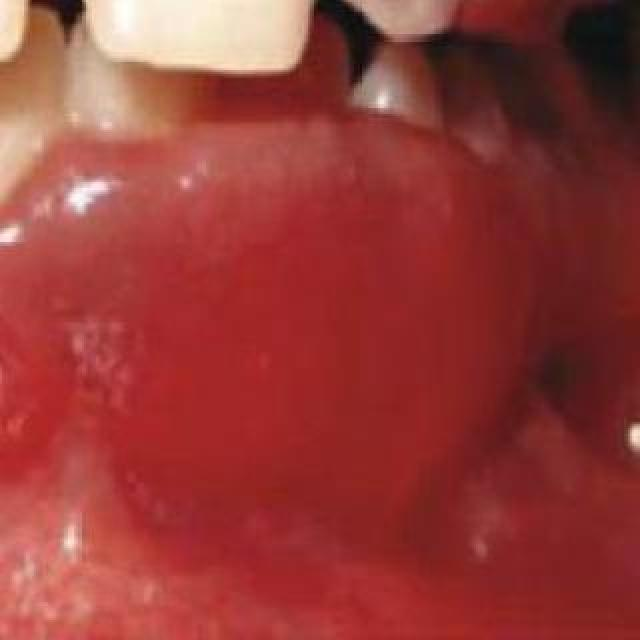plaque: (90, 0, 328, 48), (336, 0, 480, 40), (0, 0, 50, 58)
spacing: (8, 0, 116, 78)
